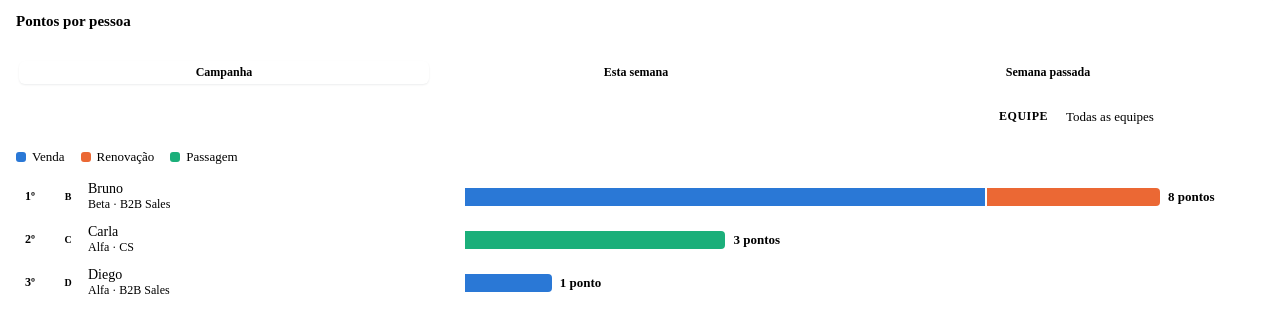
Test: PeoplePoints › equipe sem ninguém mostra o aviso
The image size is (1273, 311).
Expected: the text "Bruno" is shown, [88,181,123,196]
Select "Gama" in the dropdown named "Filtrar pontos por equipe" at [1156, 116], box [1056,99,1256,133]
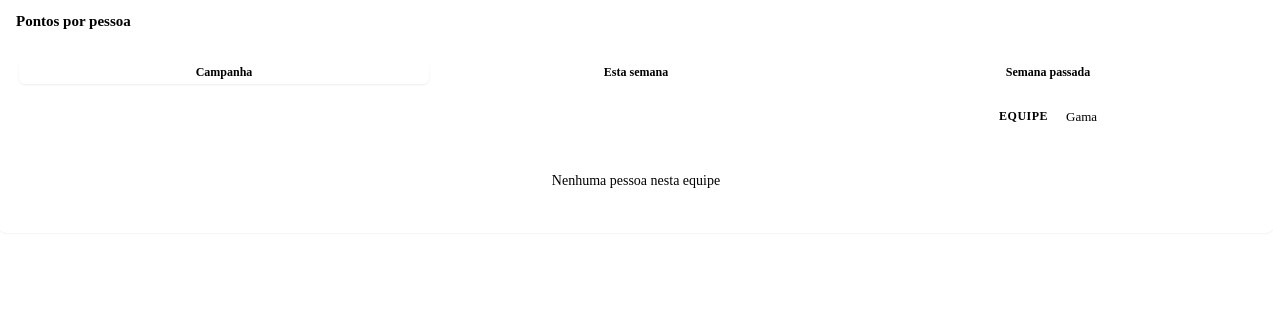
Result: the text "Nenhuma pessoa nesta equipe" is shown at [552,173,720,188]
